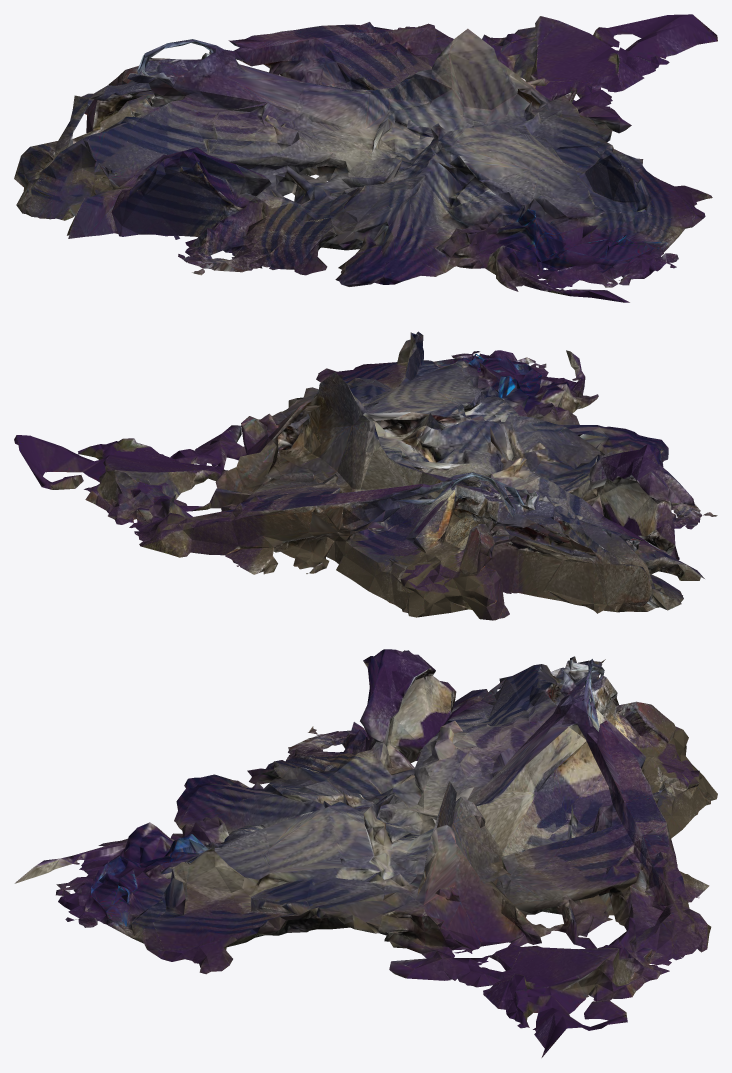
Rendered from trash.glb.
3 views of the same model, one above another, from view 1: azimuth 30°, elevation 25°; view 2: azimuth 150°, elevation 25°; view 3: azimuth 270°, elevation 25° (orthographic). The views are drawn at different scales.
Parts seen in each view (by area): view 1: Ground Debris1.011; view 2: Ground Debris1.011; view 3: Ground Debris1.011.
Boxes of the visible parts, x1,y1,x2,y2 form: Ground Debris1.011: (14, 14, 717, 302); Ground Debris1.011: (14, 331, 717, 620); Ground Debris1.011: (14, 649, 717, 1057).
Size of the model in its own units: 2.22 by 0.3582 by 1.8.
1 material, 1 textured.
